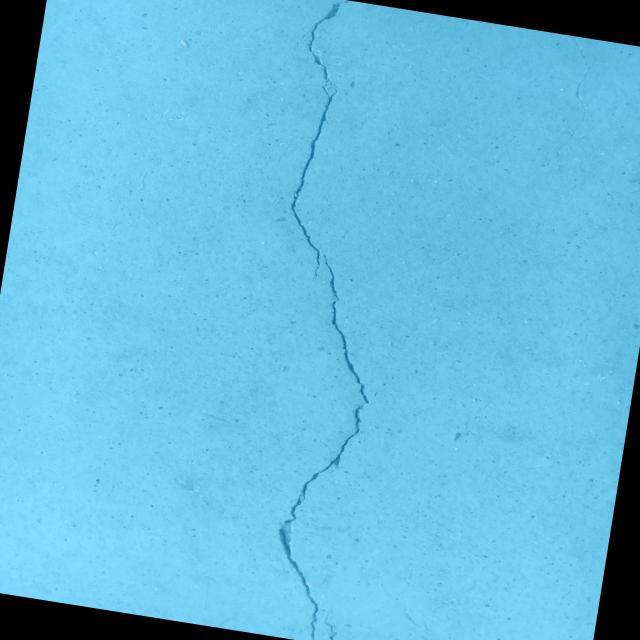crack: (208, 0, 435, 640)
